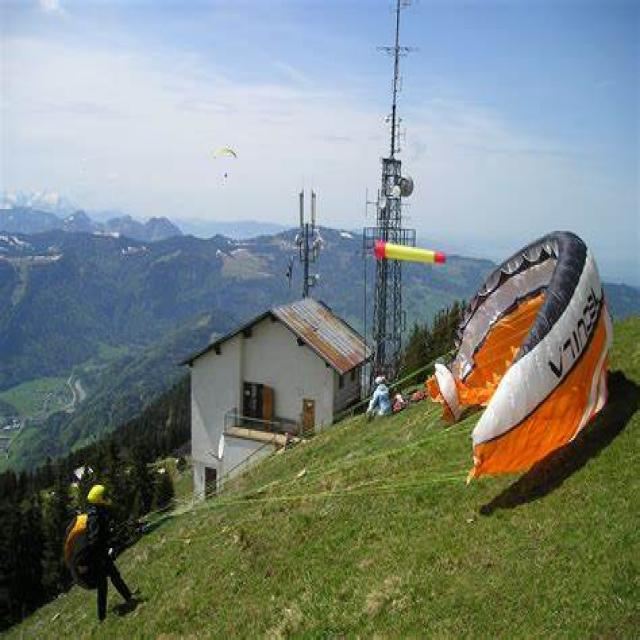paraglider: (424, 227, 613, 487)
